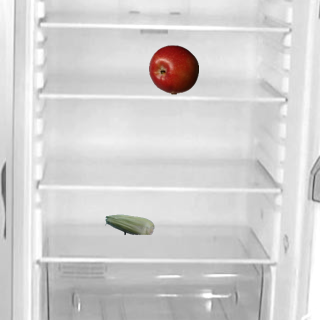Apple Braeburn: (148, 44, 198, 94)
Corn Husk: (104, 199, 154, 249)
